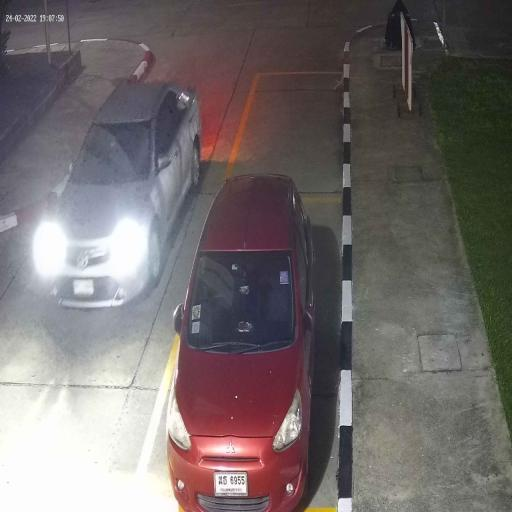car: (165, 170, 316, 512), (44, 80, 202, 309)
